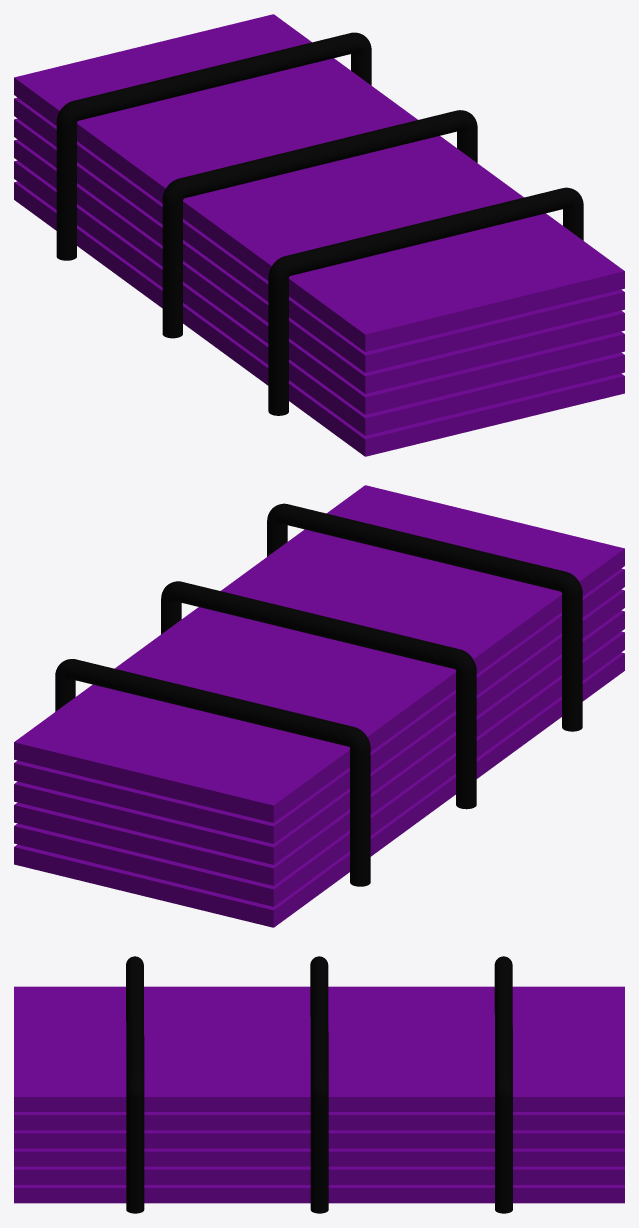
The model's file is BatteryLevel6.fbx.
3 renders of one model, top to bottom at view 1: azimuth 30°, elevation 25°; view 2: azimuth 150°, elevation 25°; view 3: azimuth 270°, elevation 25°, orthographic. The views are drawn at different scales.
Parts seen in each view (by area): view 1: BatteryLevel6; view 2: BatteryLevel6; view 3: BatteryLevel6.
Boxes of the visible parts, box(x1,y1,x2,y2) form: BatteryLevel6: box(14, 14, 624, 456); BatteryLevel6: box(14, 485, 624, 927); BatteryLevel6: box(14, 956, 624, 1213).
Bounding box in the file's own units: 51.46 × 24.02 × 100.
